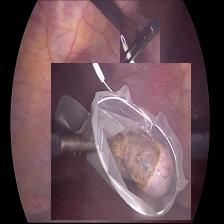Grasper: (120, 19, 160, 68), (142, 104, 178, 155)
Specimen Bag: (52, 63, 191, 220)
